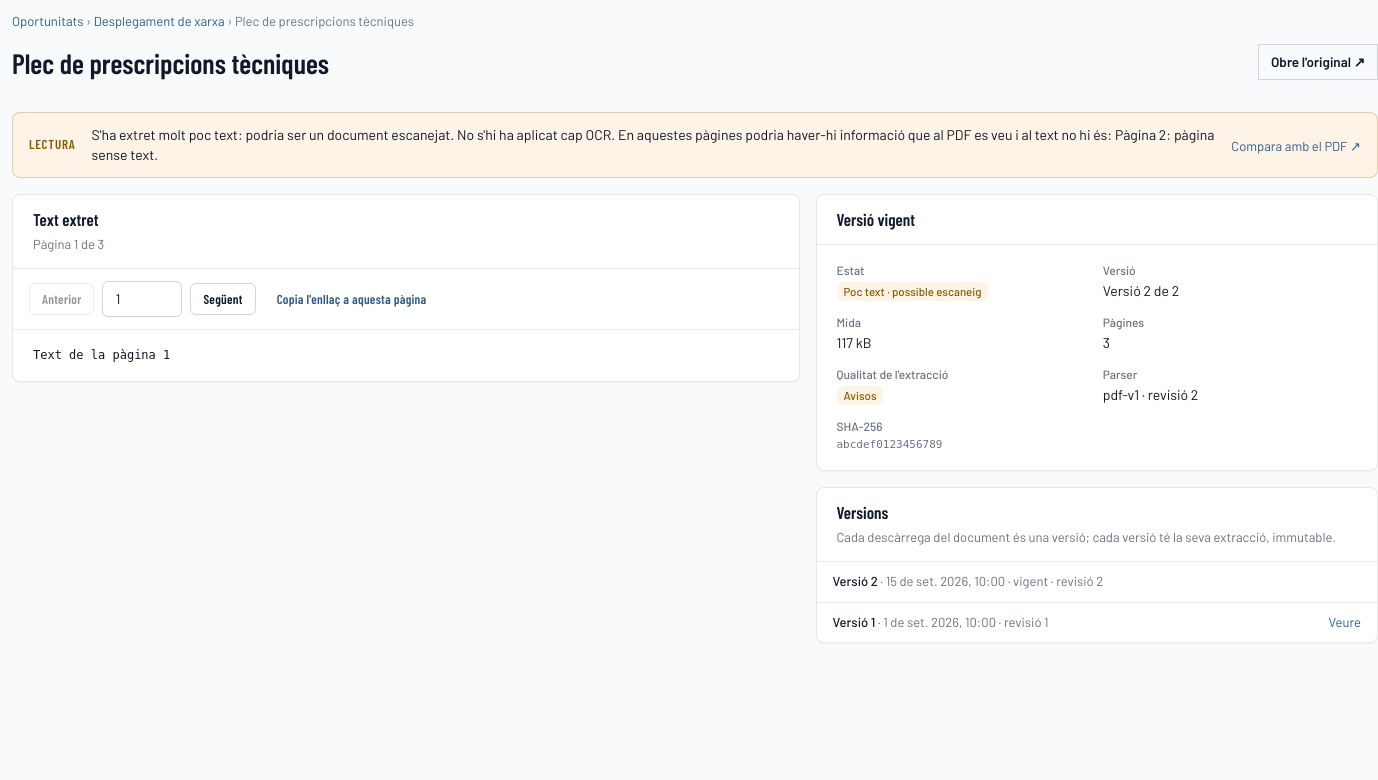
Test: Text extret d'un plec › la navegació de pàgines demana la pàgina següent i mostra el buit d'una pàgina sense text
Expected: the text "Text de la pàgina 1" is shown, [33,348,170,362]
Click the button "Següent". click: (223, 299)
box: [190,283,256,315]
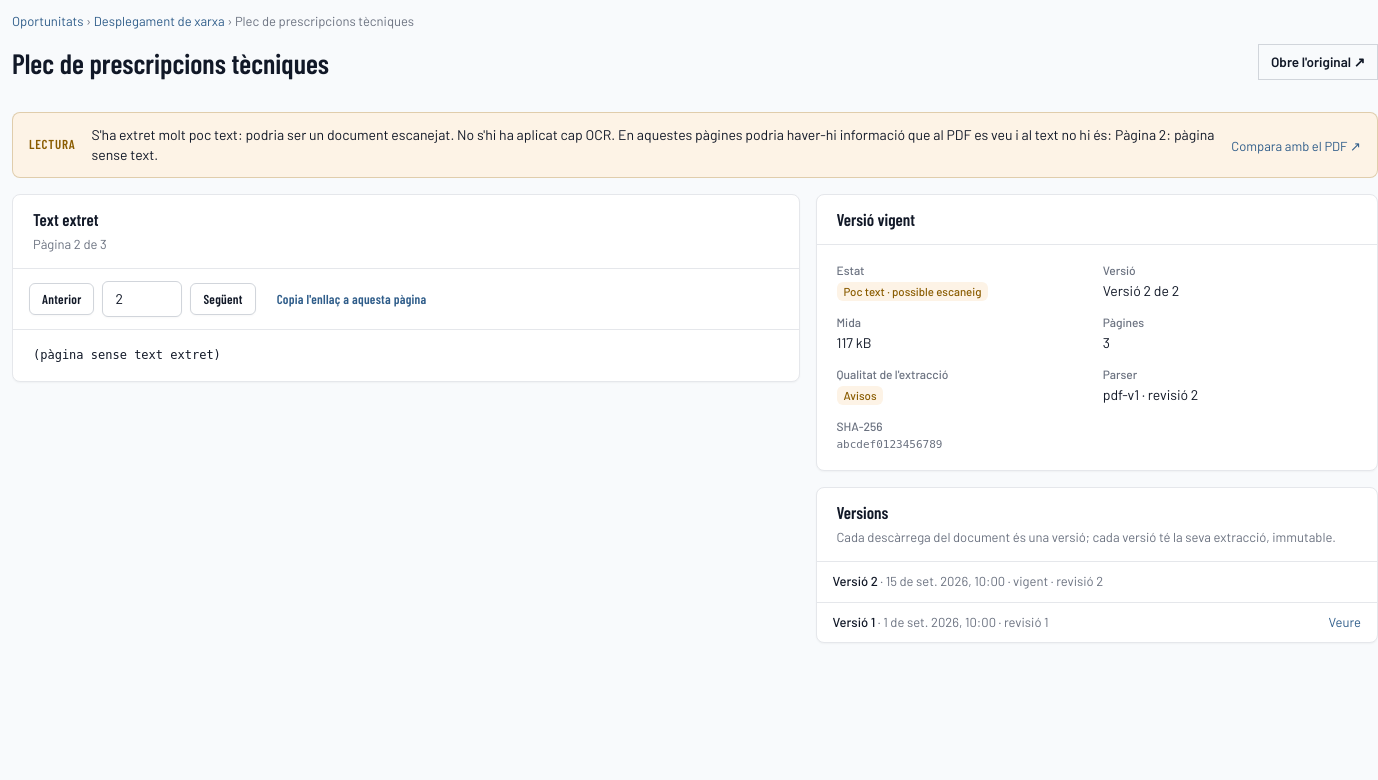
Expected: the text "(pàgina sense text extret)" is shown, [33,348,221,362]
Expected: the text "Pàgina 2 de 3" is shown, [33,234,107,254]
